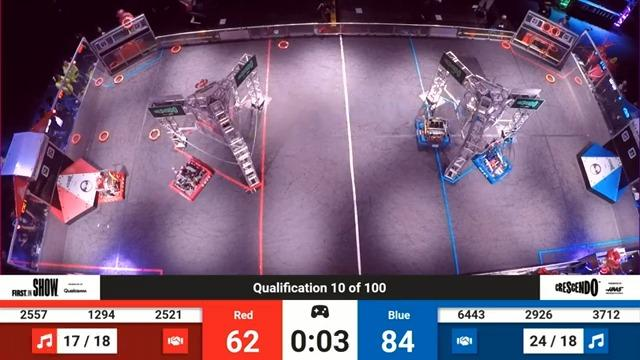robot: (471, 144, 521, 186), (169, 159, 213, 202), (89, 165, 131, 208), (414, 111, 456, 151)
